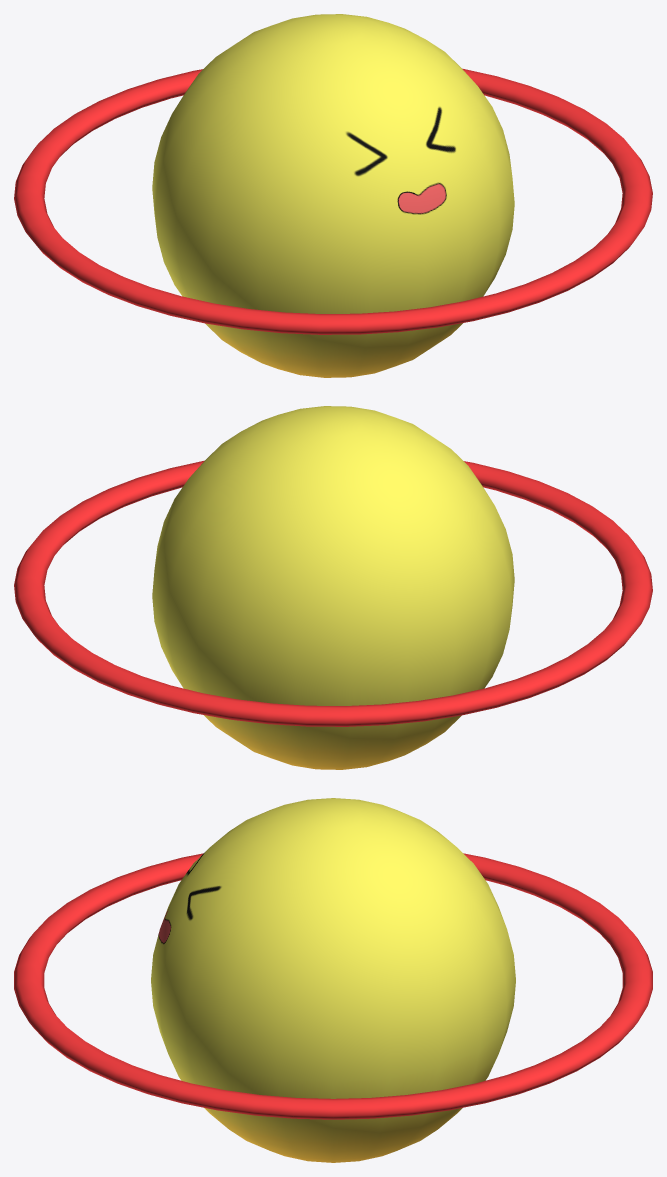
The model's file is wakusei.fbx.
3 views of the same model, one above another, from view 1: azimuth 30°, elevation 25°; view 2: azimuth 150°, elevation 25°; view 3: azimuth 270°, elevation 25° (orthographic).
Parts seen in each view (by area): view 1: pSphere1, pTorus1; view 2: pSphere1, pTorus1; view 3: pSphere1, pTorus1.
Part boxes in pixels (x1=…): pSphere1: x1=152, y1=14, x2=514, y2=377; pTorus1: x1=14, y1=68, x2=652, y2=334; pSphere1: x1=152, y1=406, x2=514, y2=769; pTorus1: x1=14, y1=460, x2=652, y2=726; pSphere1: x1=151, y1=798, x2=515, y2=1162; pTorus1: x1=14, y1=853, x2=652, y2=1119.
Bounding box in the file's own units: 1771 × 1010 × 1767.
